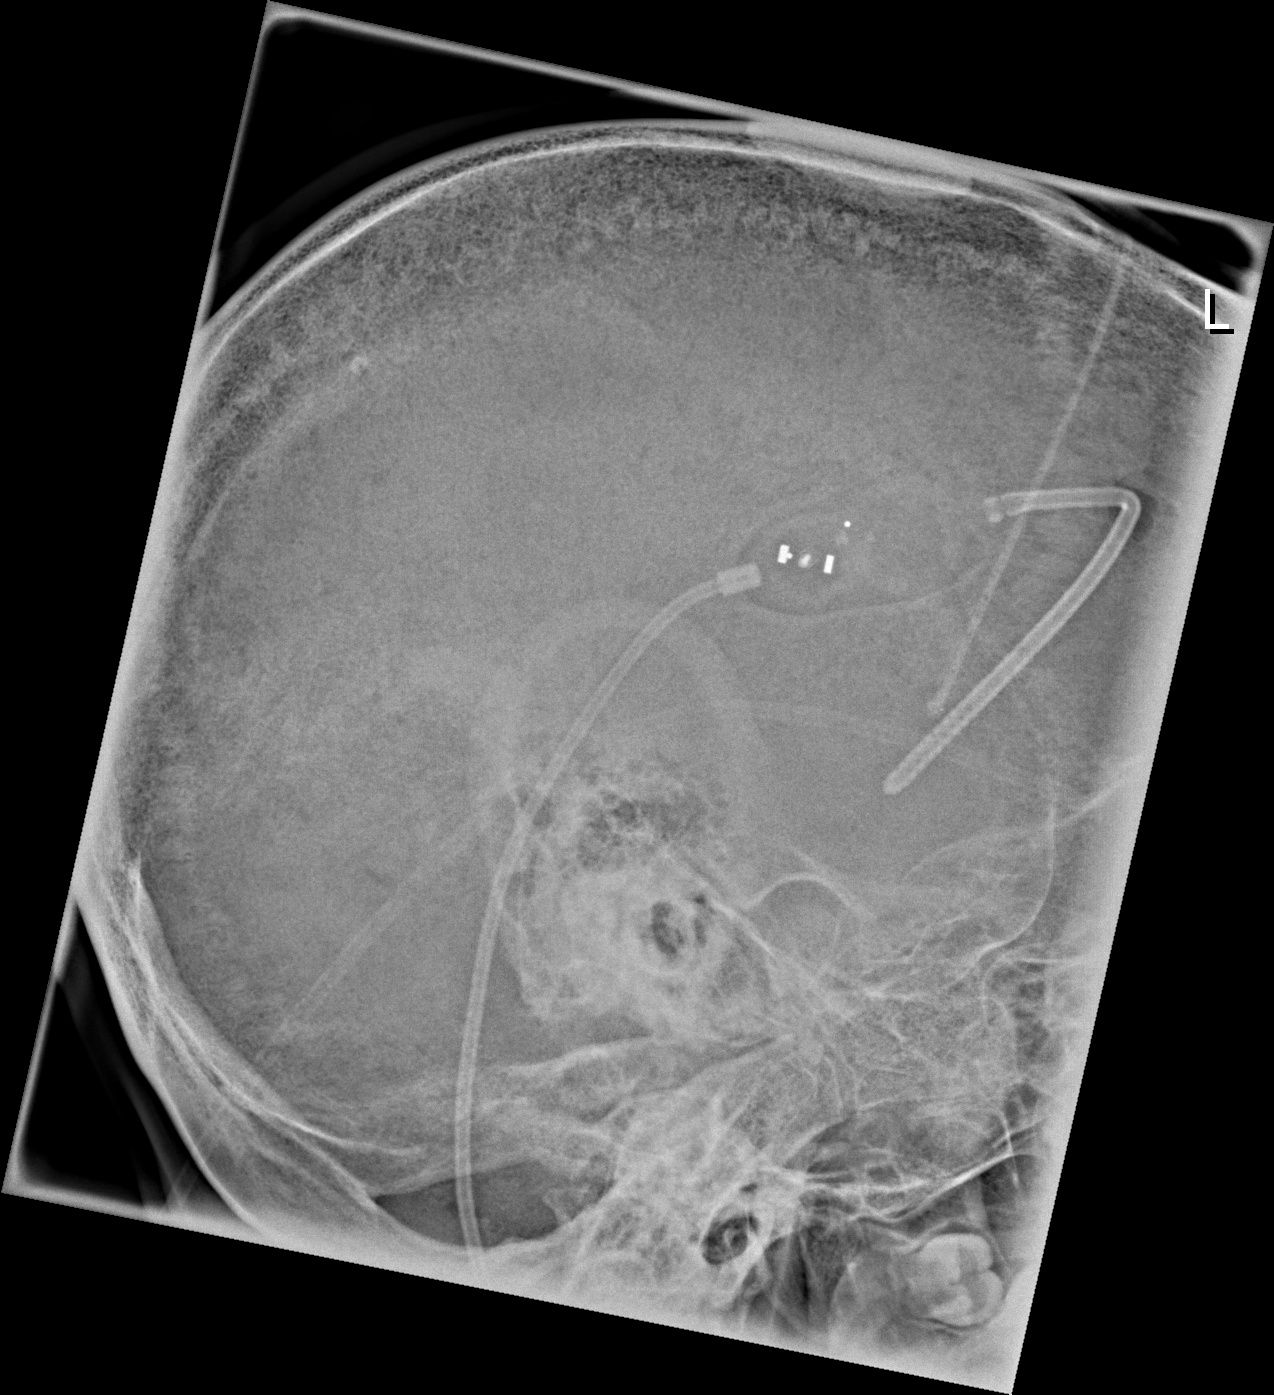Codman Certas: (754, 510, 884, 604)
